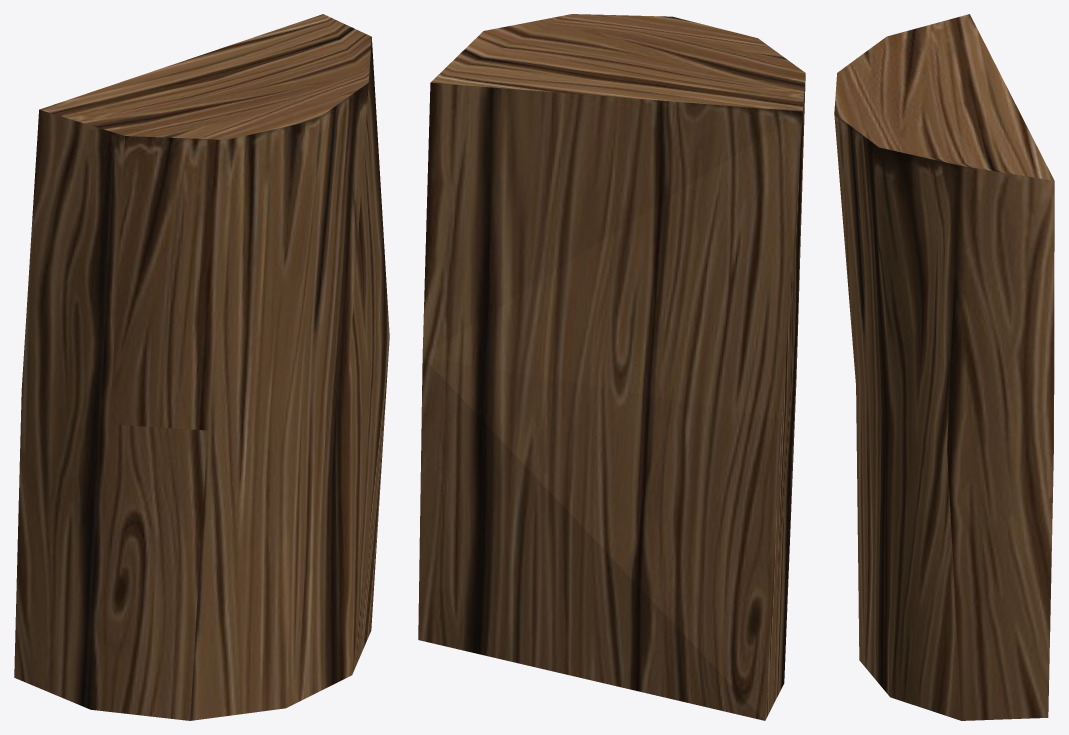
The model's file is woodLog1.obj.
3 views of the same model, side by side, from view 1: azimuth 30°, elevation 25°; view 2: azimuth 150°, elevation 25°; view 3: azimuth 270°, elevation 25° (orthographic). The views are drawn at different scales.
Visible parts, largest first — view 1: log1_Mesh; view 2: log1_Mesh; view 3: log1_Mesh.
Boxes of the visible parts, box(x1,y1,x2,y2) form: log1_Mesh: box(14, 14, 389, 720); log1_Mesh: box(418, 14, 805, 720); log1_Mesh: box(834, 14, 1054, 720).
Bounding box in the file's own units: 0.0671 × 0.1117 × 0.0398.
Materials: 1 (1 with a texture image).
